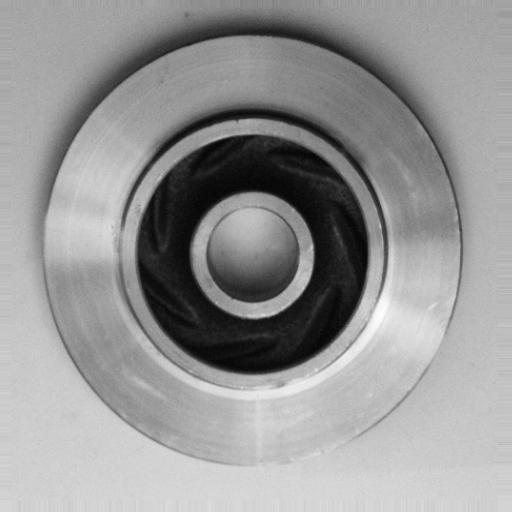unpolished_casting: (39, 30, 463, 468)
